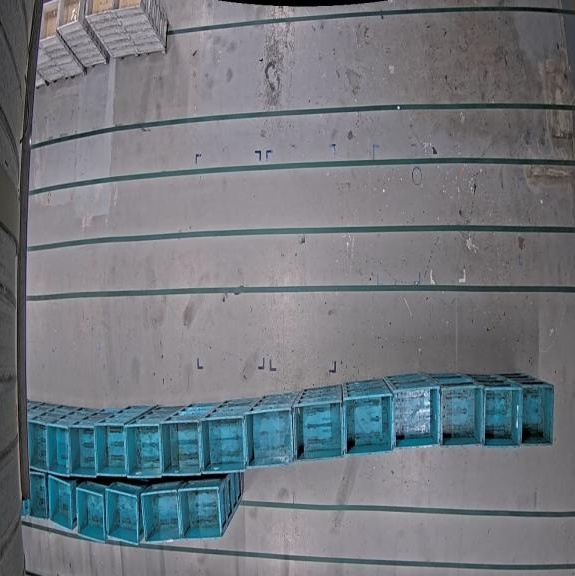Box: (245, 403, 297, 468), (344, 389, 394, 454), (296, 396, 345, 461), (178, 478, 226, 542), (202, 409, 248, 473), (439, 380, 484, 445), (393, 385, 437, 446), (164, 416, 203, 478), (124, 419, 164, 479), (481, 384, 519, 446), (518, 382, 554, 445), (105, 489, 139, 550), (73, 482, 108, 541), (142, 490, 178, 545), (96, 423, 126, 477), (23, 470, 53, 524), (70, 421, 98, 477), (26, 420, 50, 474), (49, 475, 71, 532), (47, 425, 69, 475), (39, 0, 60, 42), (56, 0, 81, 30), (85, 0, 112, 17)
